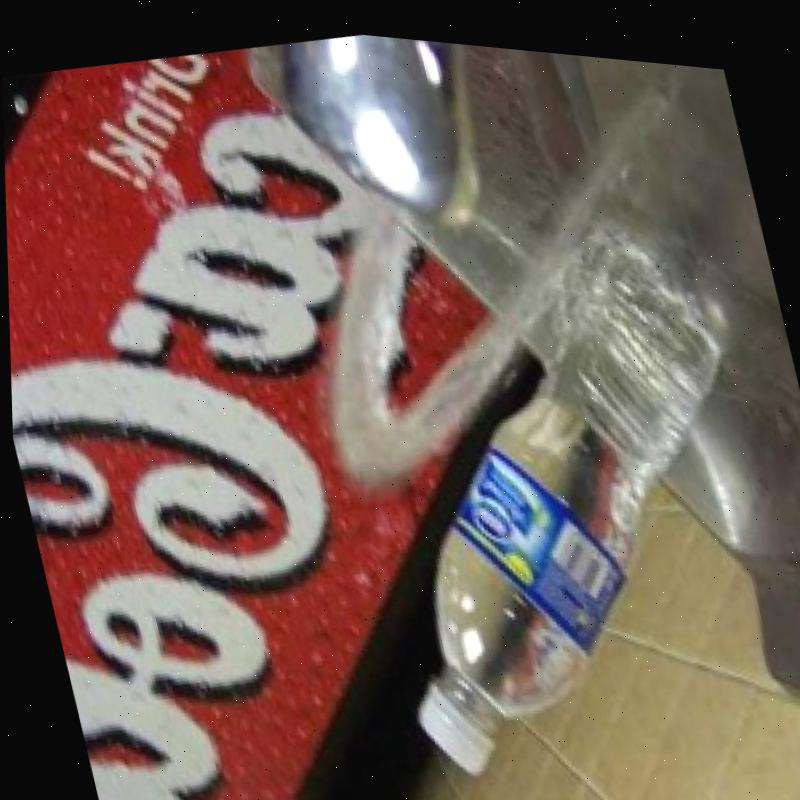botella: (309, 211, 800, 800)
